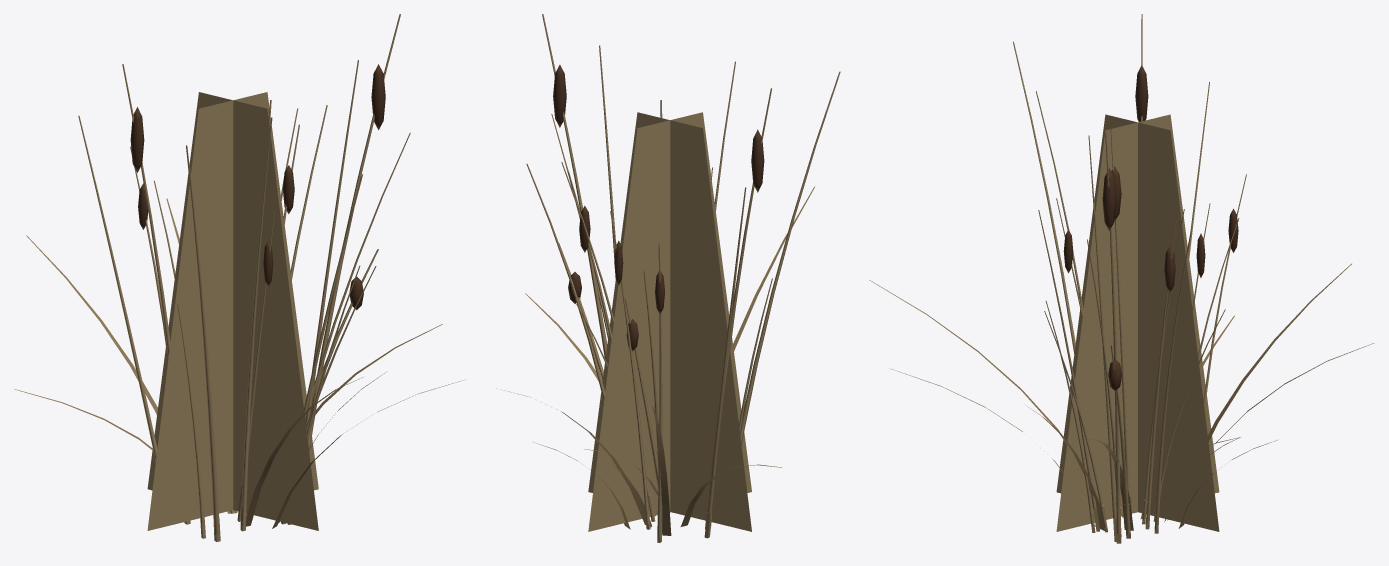
The model's file is reed_clump_1.glb.
3 views of the same model, side by side, from view 1: azimuth 30°, elevation 25°; view 2: azimuth 150°, elevation 25°; view 3: azimuth 270°, elevation 25° (orthographic). The views are drawn at different scales.
Parts seen in each view (by area): view 1: LOD_Far, ReedClump_Stalks_1, ReedClump_Stalks_2, ReedClump_Stalks_0, ReedClump_Heads_1, ReedClump_Blades_1, ReedClump_Heads_2, ReedClump_Heads_0, ReedClump_Blades_2, ReedClump_Blades_0; view 2: LOD_Far, ReedClump_Stalks_1, ReedClump_Stalks_0, ReedClump_Stalks_2, ReedClump_Blades_1, ReedClump_Heads_1, ReedClump_Blades_0, ReedClump_Heads_0, ReedClump_Heads_2, ReedClump_Blades_2; view 3: LOD_Far, ReedClump_Stalks_2, ReedClump_Stalks_0, ReedClump_Stalks_1, ReedClump_Heads_1, ReedClump_Blades_0, ReedClump_Blades_1, ReedClump_Heads_2, ReedClump_Heads_0, ReedClump_StubbleStalks.
Part boxes in pixels (x1,y1,x2,y2): LOD_Far: [147, 92, 318, 530]; ReedClump_Stalks_1: [122, 64, 360, 534]; ReedClump_Stalks_2: [177, 14, 400, 531]; ReedClump_Stalks_0: [78, 115, 410, 462]; ReedClump_Heads_1: [130, 107, 294, 286]; ReedClump_Blades_1: [26, 235, 362, 526]; ReedClump_Heads_2: [371, 64, 385, 130]; ReedClump_Heads_0: [138, 183, 363, 310]; ReedClump_Blades_2: [14, 380, 463, 528]; ReedClump_Blades_0: [166, 198, 442, 523]; LOD_Far: [588, 112, 751, 531]; ReedClump_Stalks_1: [568, 61, 840, 523]; ReedClump_Stalks_0: [551, 114, 746, 537]; ReedClump_Stalks_2: [526, 14, 772, 433]; ReedClump_Blades_1: [605, 186, 814, 535]; ReedClump_Heads_1: [579, 129, 764, 285]; ReedClump_Blades_0: [496, 293, 651, 529]; ReedClump_Heads_0: [568, 270, 664, 351]; ReedClump_Heads_2: [553, 65, 566, 127]; ReedClump_Blades_2: [584, 449, 782, 526]; LOD_Far: [1056, 114, 1219, 531]; ReedClump_Stalks_2: [1044, 128, 1191, 533]; ReedClump_Stalks_0: [1038, 82, 1246, 534]; ReedClump_Stalks_1: [1013, 14, 1210, 526]; ReedClump_Heads_1: [1063, 65, 1205, 292]; ReedClump_Blades_0: [1027, 343, 1374, 530]; ReedClump_Blades_1: [869, 263, 1351, 521]; ReedClump_Heads_2: [1102, 166, 1121, 230]; ReedClump_Heads_0: [1108, 208, 1238, 390]; ReedClump_StubbleStalks: [1091, 496, 1158, 543].
Bounding box in the file's own units: 1.43 × 1.86 × 1.88.
